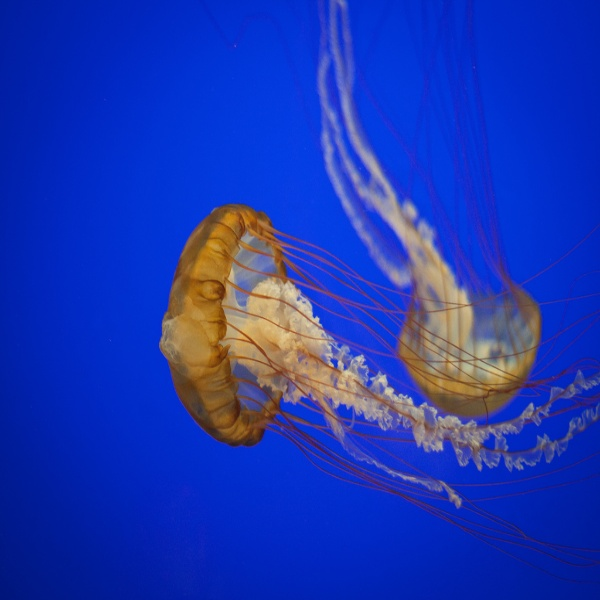Jellyfish: (200, 0, 600, 421), (159, 204, 599, 582)
